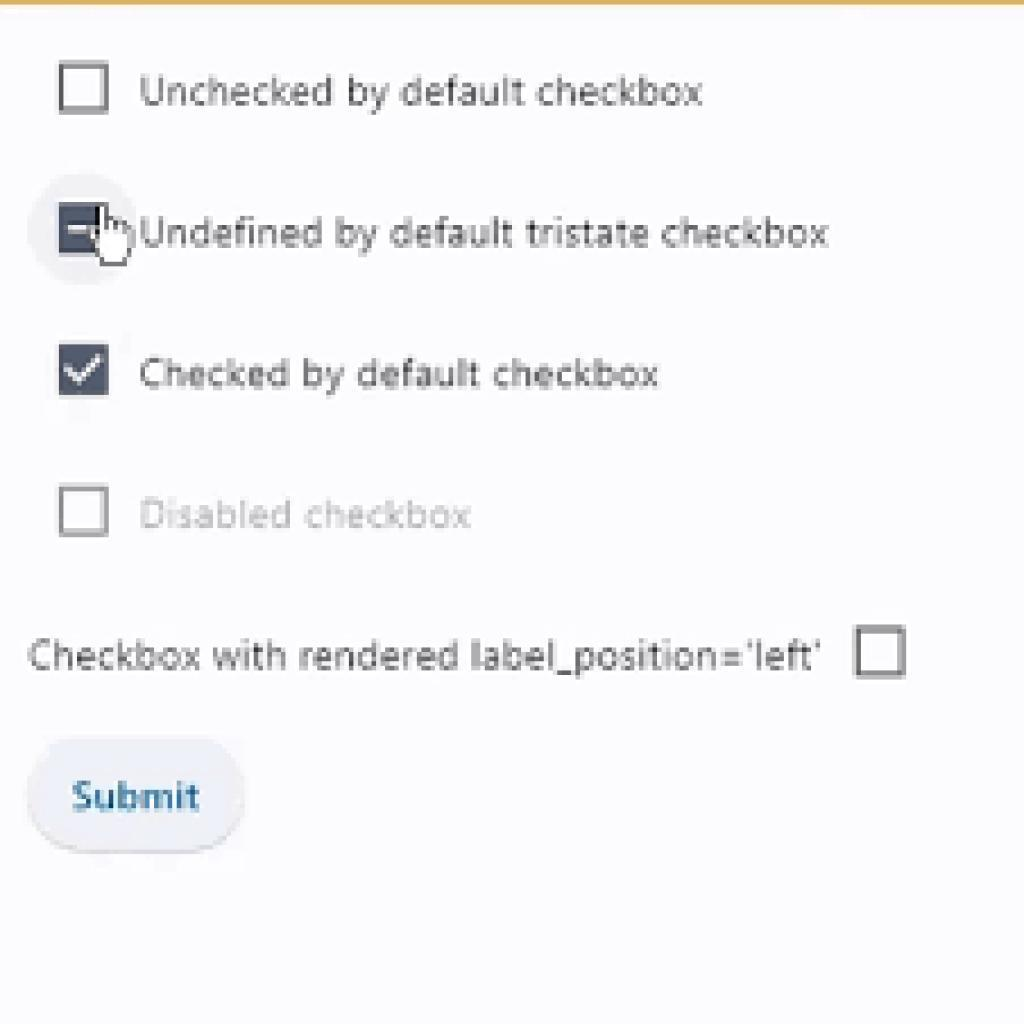button: (32, 732, 248, 857)
checkbox: (852, 623, 911, 683), (56, 482, 112, 543), (56, 341, 114, 399), (58, 61, 112, 117)
